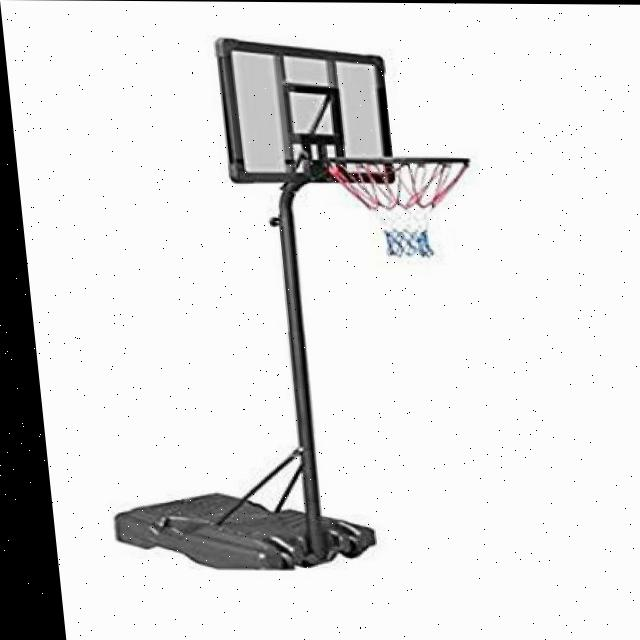hoop: (326, 156, 480, 258)
